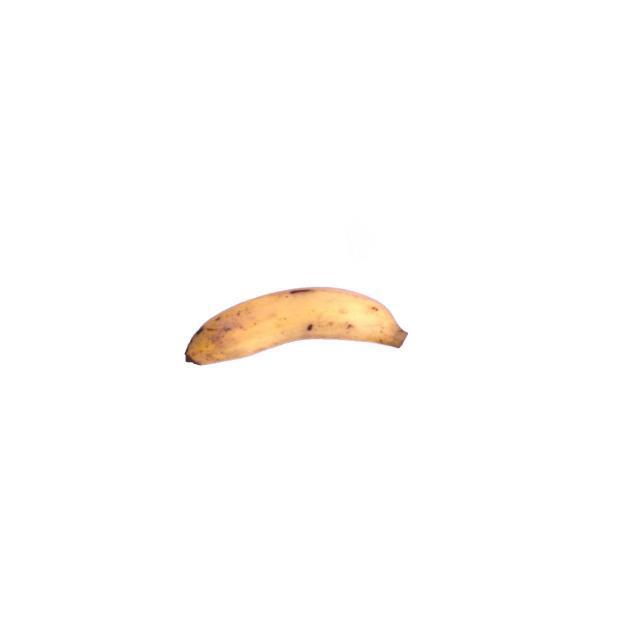Banana: (180, 284, 410, 369)
